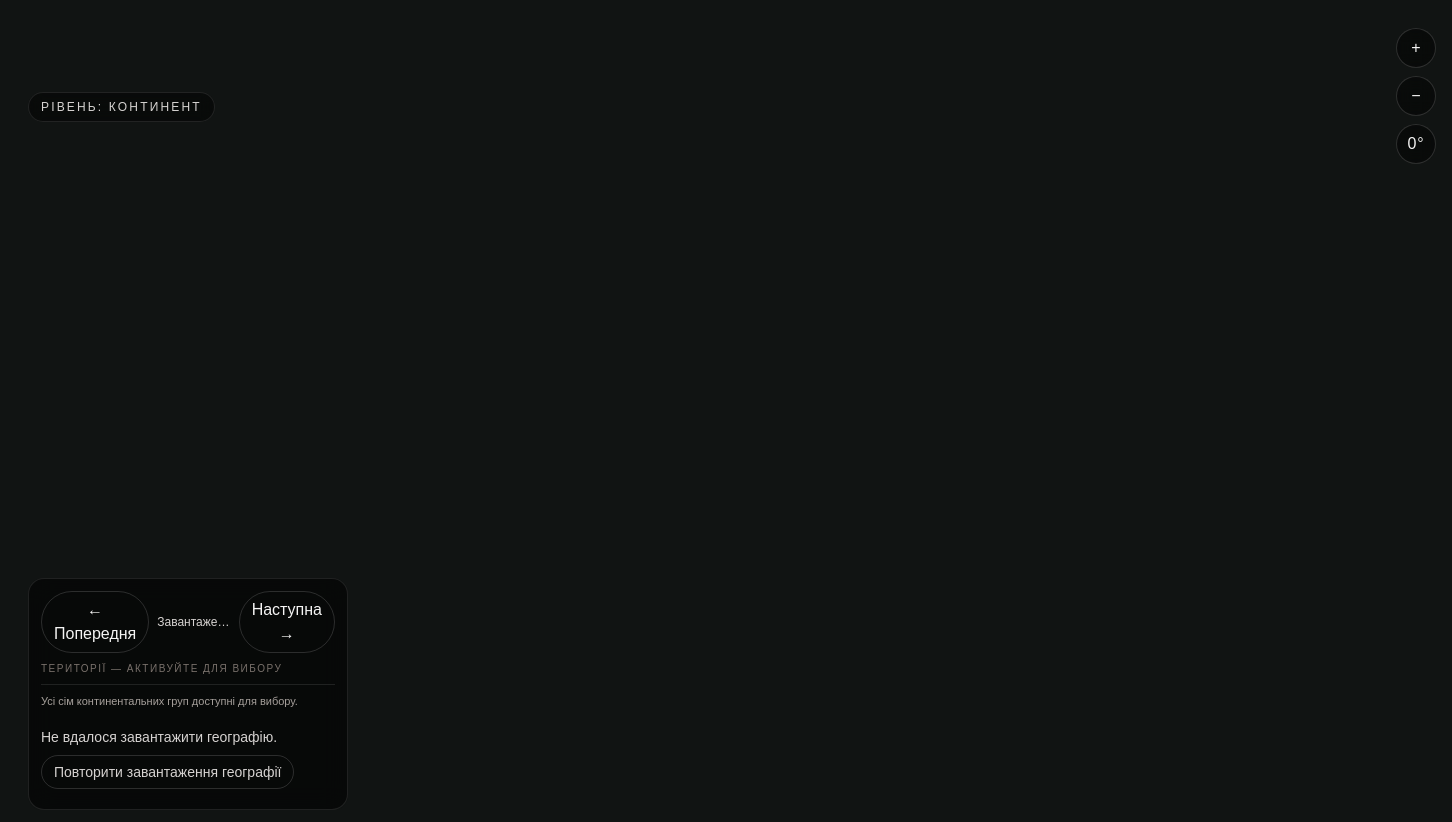
Scenario: air quality globe shell › exposes a geography error and retries the failed asset request
expect the text "Не вдалося завантажити географію." is shown: met, box [41,729,277,745]
Click the button "Повторити завантаження географії" at point(168, 772), box [41,755,294,789]
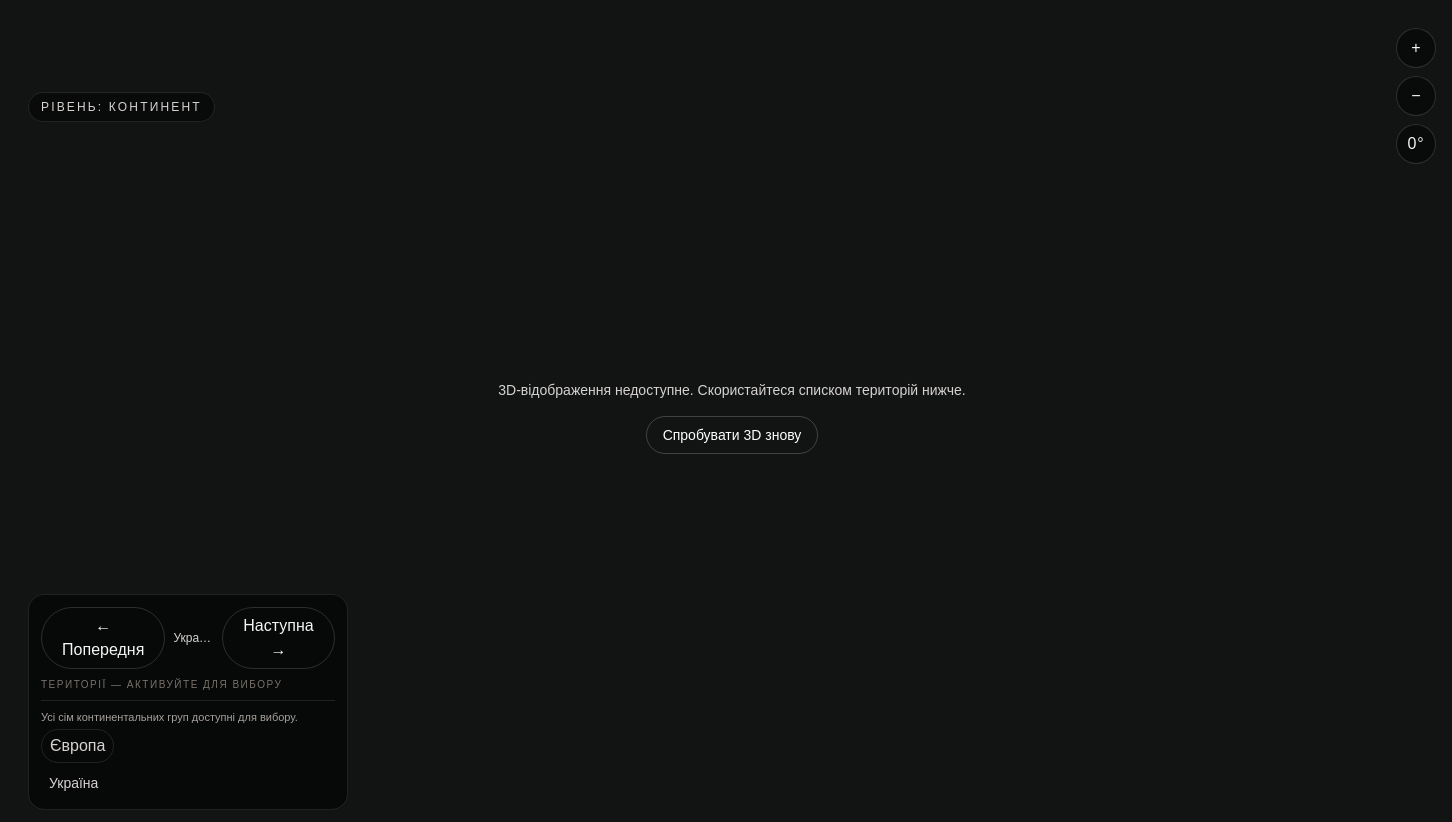
expect the button "Україна" is shown: met, box [41,769,331,797]
